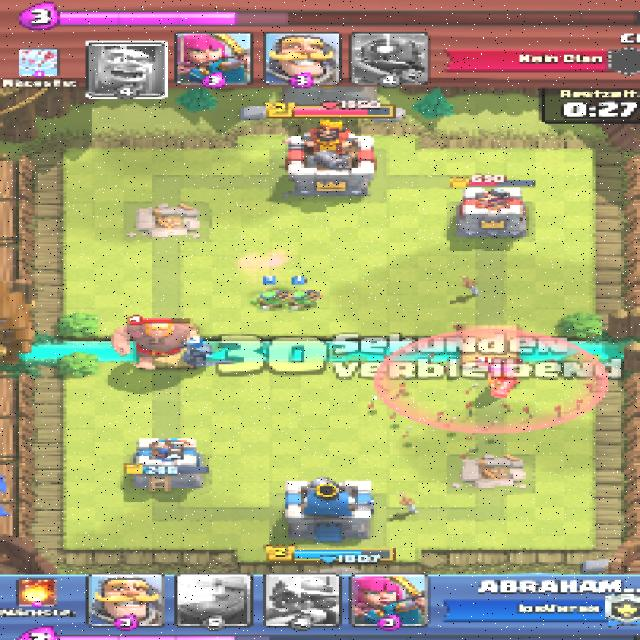Enemy-Arrow: (374, 328, 608, 433)
Enemy-Giant: (111, 319, 196, 372)
Enemy-Musketeer: (478, 358, 524, 396)
Player-MiniPEKKA: (184, 343, 213, 369)
Player-SpearGoblin: (289, 288, 323, 308), (255, 287, 280, 309)
